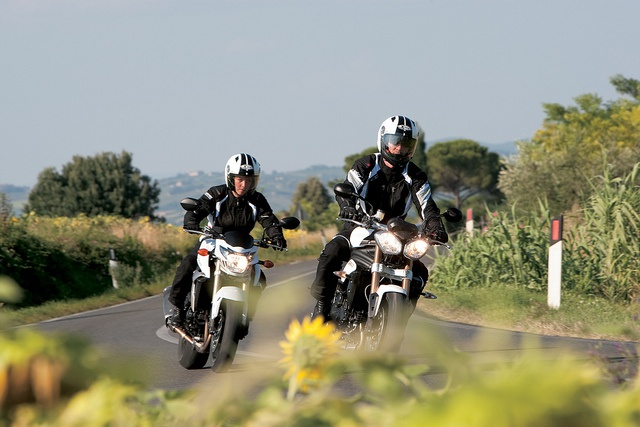non-vehicle: (308, 179, 469, 362), (162, 215, 300, 376)
